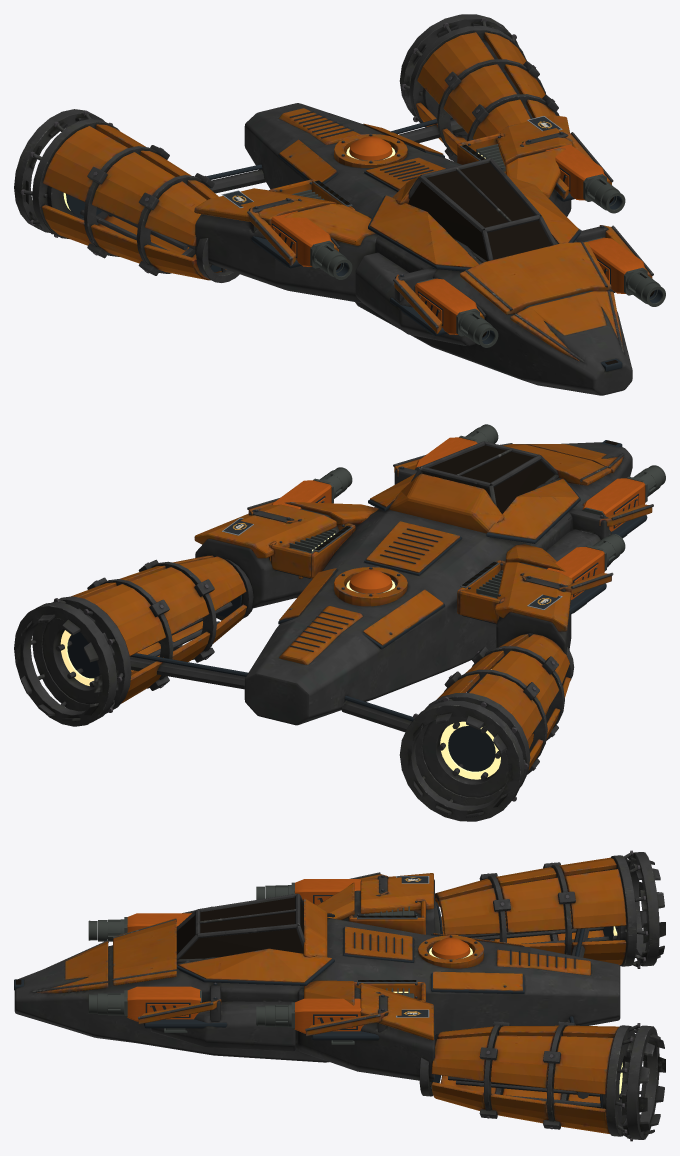
The model's file is saturn-schiff2.glb.
The picture shows the model from 3 angles, top to bottom: view 1: azimuth 30°, elevation 25°; view 2: azimuth 150°, elevation 25°; view 3: azimuth 270°, elevation 25°; orthographic projection. The views are drawn at different scales.
Visible parts, largest first — view 1: Hull_saturn_Armor, Hull_saturn_BrushedAlloy, Hull_saturn_EdgeGuards, Generator_01_Geometry, Generator_03_Geometry, Laser_01_Geometry; view 2: Hull_saturn_Armor, Hull_saturn_BrushedAlloy, Hull_saturn_EdgeGuards, Generator_01_Geometry, Generator_03_Geometry, Laser_01_Geometry; view 3: Hull_saturn_Armor, Hull_saturn_BrushedAlloy, Hull_saturn_EdgeGuards, Generator_01_Geometry, Generator_03_Geometry, Laser_01_Geometry.
Boxes of the visible parts, box(x1,y1,x2,y2) form: Hull_saturn_Armor: box(42, 32, 652, 361); Hull_saturn_BrushedAlloy: box(26, 23, 632, 395); Hull_saturn_EdgeGuards: box(14, 14, 653, 363); Generator_01_Geometry: box(20, 17, 665, 371); Generator_03_Geometry: box(269, 136, 644, 334); Laser_01_Geometry: box(336, 163, 654, 364); Hull_saturn_Armor: box(71, 444, 652, 770); Hull_saturn_BrushedAlloy: box(16, 441, 632, 817); Hull_saturn_EdgeGuards: box(14, 443, 653, 821); Generator_01_Geometry: box(31, 424, 665, 801); Generator_03_Geometry: box(271, 437, 645, 599); Laser_01_Geometry: box(422, 440, 618, 513); Hull_saturn_Armor: box(37, 857, 626, 1134); Hull_saturn_BrushedAlloy: box(14, 856, 665, 1138); Hull_saturn_EdgeGuards: box(30, 852, 659, 1139); Generator_01_Geometry: box(14, 850, 648, 1141); Generator_03_Geometry: box(127, 879, 470, 1033); Laser_01_Geometry: box(16, 897, 303, 984).
Bounding box in the file's own units: 13.19 × 3.85 × 16.36.
Materials: 12 (10 with a texture image).
